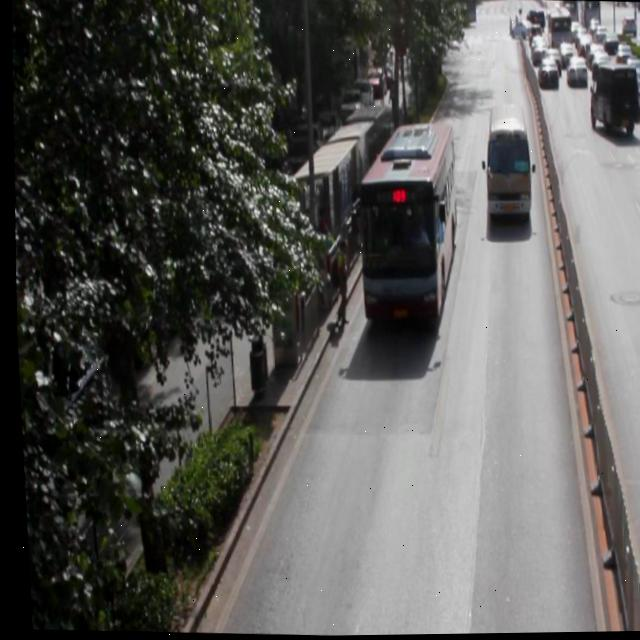truck: (479, 106, 532, 224), (582, 63, 637, 133)
van: (351, 120, 459, 327)
